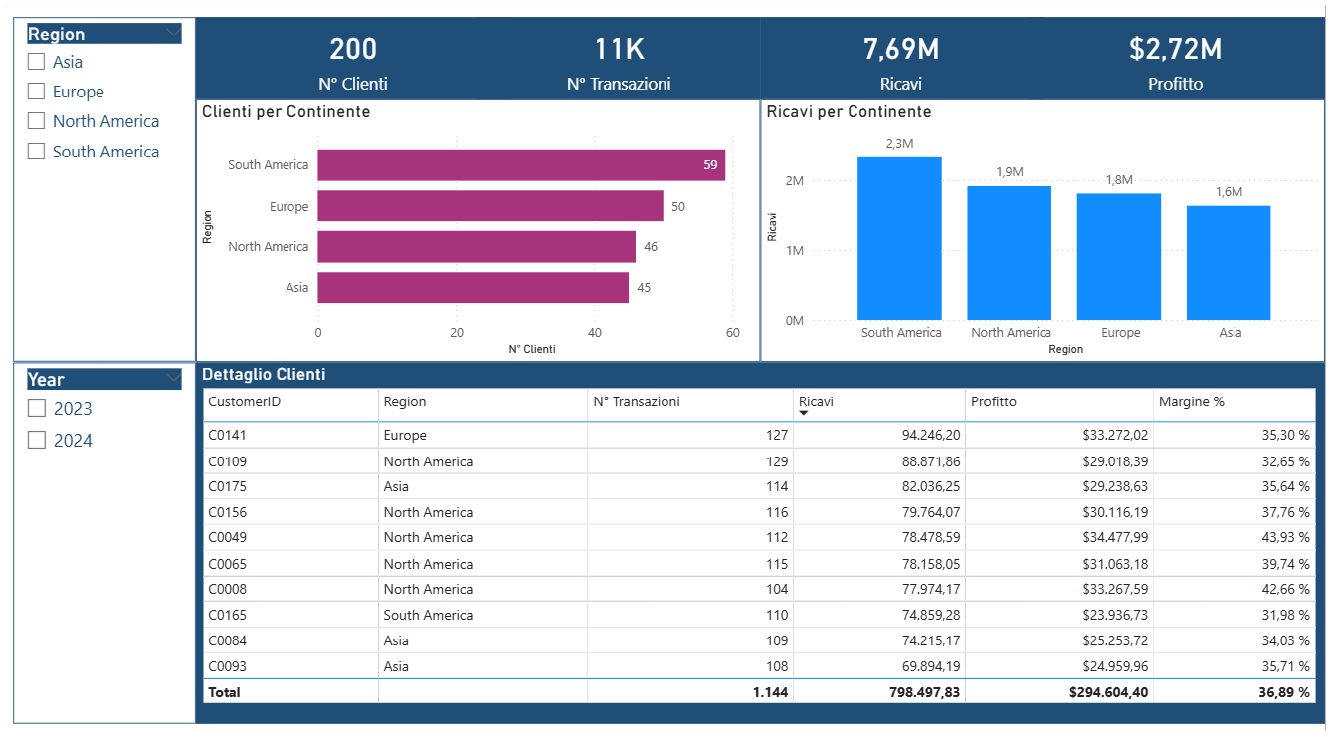

What the dashboard file says about the page in this screenshot:
{"tool":"powerbi","page":{"name":"Clienti – Comportamento","canvas":[1280,720],"ordinal":1},"visuals":[{"type":"slicer","fields":{"Values":["Clienti.Region"]},"box":[16,16,176,336],"z":0},{"type":"card","fields":{"Values":["Transazioni.N° Clienti"]},"box":[192,16,304,80],"z":1000},{"type":"card","fields":{"Values":["Transazioni.N° Transazioni"]},"box":[464,16,272,80],"z":2000},{"type":"card","fields":{"Values":["Transazioni.Ricavi"]},"box":[736,16,272,80],"z":3000},{"type":"card","fields":{"Values":["Transazioni.Profitto"]},"box":[992,16,288,80],"z":4000},{"type":"clusteredBarChart","title":" Clienti per Continente","fields":{"Category":["Clienti.Region"],"Y":["Transazioni.N° Clienti"]},"box":[192,96,544,256],"z":5000},{"type":"clusteredColumnChart","title":" Ricavi per Continente","fields":{"Category":["Clienti.Region"],"Y":["Transazioni.Ricavi"]},"box":[736,96,544,256],"z":6000},{"type":"tableEx","title":"Dettaglio Clienti","fields":{"Values":["Clienti.CustomerID","Clienti.Region","Transazioni.N° Transazioni","Transazioni.Ricavi","Transazioni.Profitto","Transazioni.Margine %"]},"box":[192,352,1088,352],"z":7000},{"type":"slicer","fields":{"Values":["Date.Year"]},"box":[16,352,176,352],"z":8000}]}

Visuals, with their boxes in screenshot pixels (x1, y1, x2, y2), scaled from the page's 1280x720 canvas onto the 1333x737 screenshot:
slicer - Clienti.Region: select_region(17, 16, 200, 360)
card - Transazioni.N° Clienti: select_region(200, 16, 517, 98)
card - Transazioni.N° Transazioni: select_region(483, 16, 766, 98)
card - Transazioni.Ricavi: select_region(766, 16, 1050, 98)
card - Transazioni.Profitto: select_region(1033, 16, 1332, 98)
" Clienti per Continente" clusteredBarChart: select_region(200, 98, 766, 360)
" Ricavi per Continente" clusteredColumnChart: select_region(766, 98, 1332, 360)
"Dettaglio Clienti" tableEx: select_region(200, 360, 1332, 721)
slicer - Date.Year: select_region(17, 360, 200, 721)
